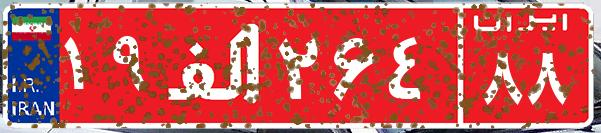1: (57, 26, 110, 107)
2: (273, 28, 330, 110)
4: (385, 28, 445, 110)
6: (330, 28, 385, 110)
8: (475, 38, 525, 113), (525, 38, 570, 115)
9: (110, 28, 158, 105)
الف: (158, 15, 273, 115)
